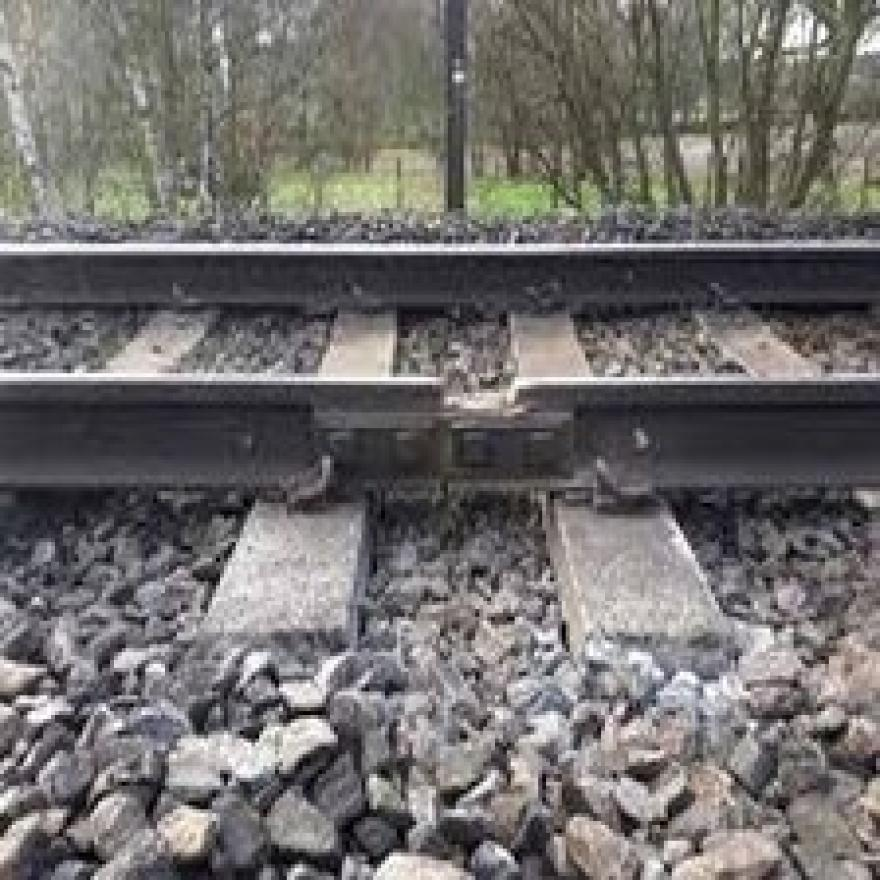railway-gap: (423, 356, 536, 429)
